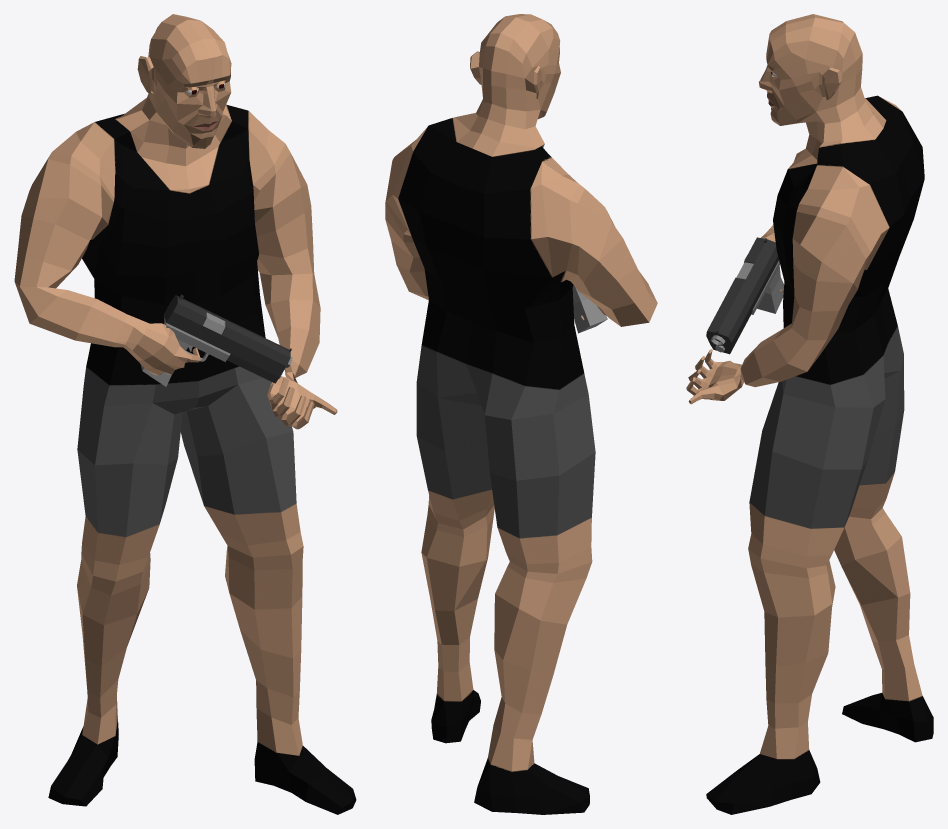
Rendered from PlayerIdle(14).obj.
The picture shows the model from 3 angles, left to right: view 1: azimuth 30°, elevation 25°; view 2: azimuth 150°, elevation 25°; view 3: azimuth 270°, elevation 25°; orthographic projection. The views are drawn at different scales.
Parts seen in each view (by area): view 1: Plane002, Box003; view 2: Plane002, Box003; view 3: Plane002, Box003.
Part boxes in pixels (x1=…): Plane002: x1=14, y1=14, x2=356, y2=814; Box003: x1=140, y1=294, x2=292, y2=386; Plane002: x1=385, y1=14, x2=657, y2=814; Box003: x1=572, y1=285, x2=607, y2=333; Plane002: x1=686, y1=14, x2=933, y2=814; Box003: x1=706, y1=237, x2=783, y2=354.
Bounding box in the file's own units: 676 × 1808 × 548.
